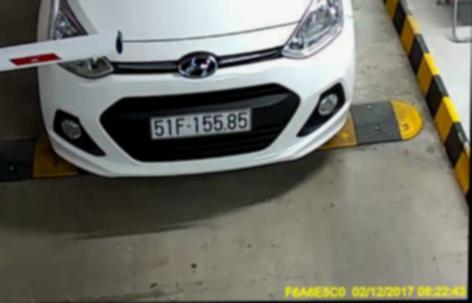License_Plate: (143, 108, 257, 138)
